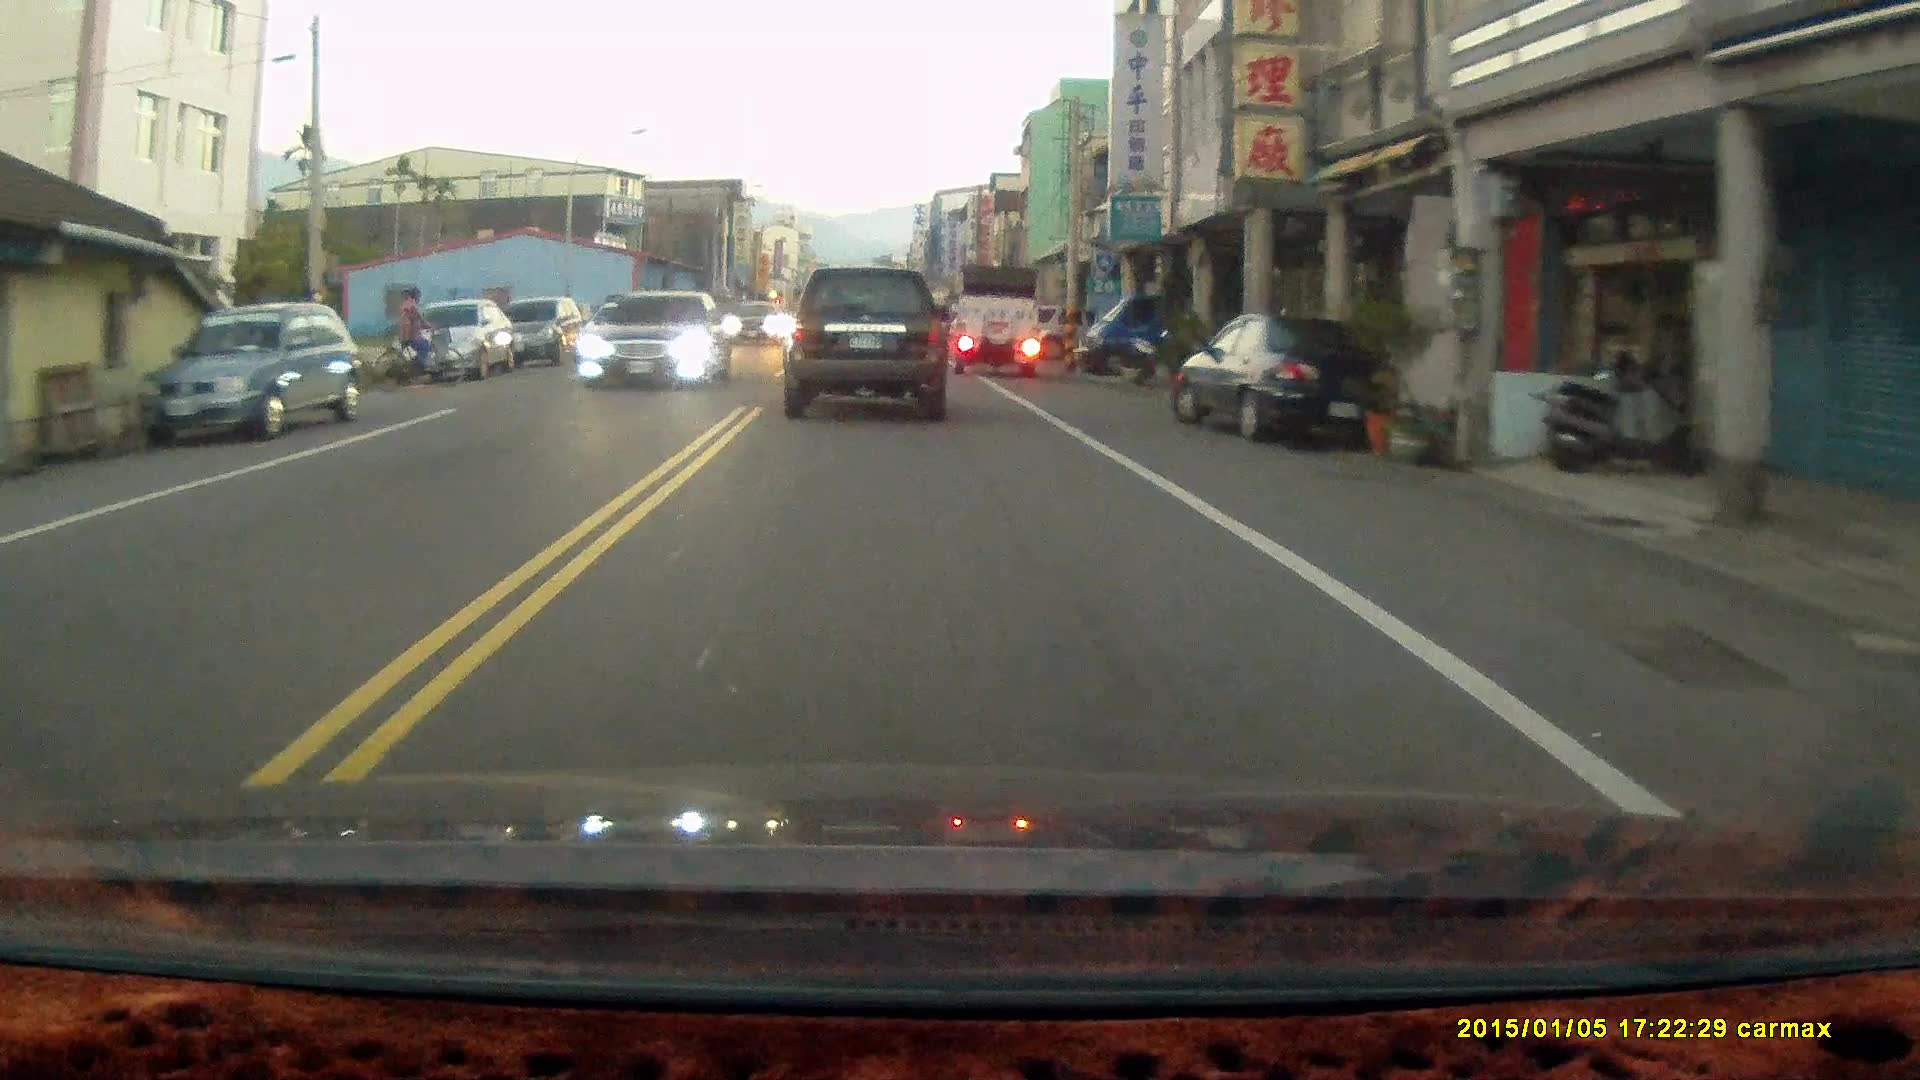rider: (364, 280, 467, 384)
vehicle: (142, 302, 364, 442), (1176, 311, 1397, 442), (788, 268, 956, 425), (577, 290, 729, 397), (1075, 278, 1219, 378), (393, 293, 519, 380), (951, 258, 1041, 373), (493, 297, 584, 367), (730, 302, 793, 347)
